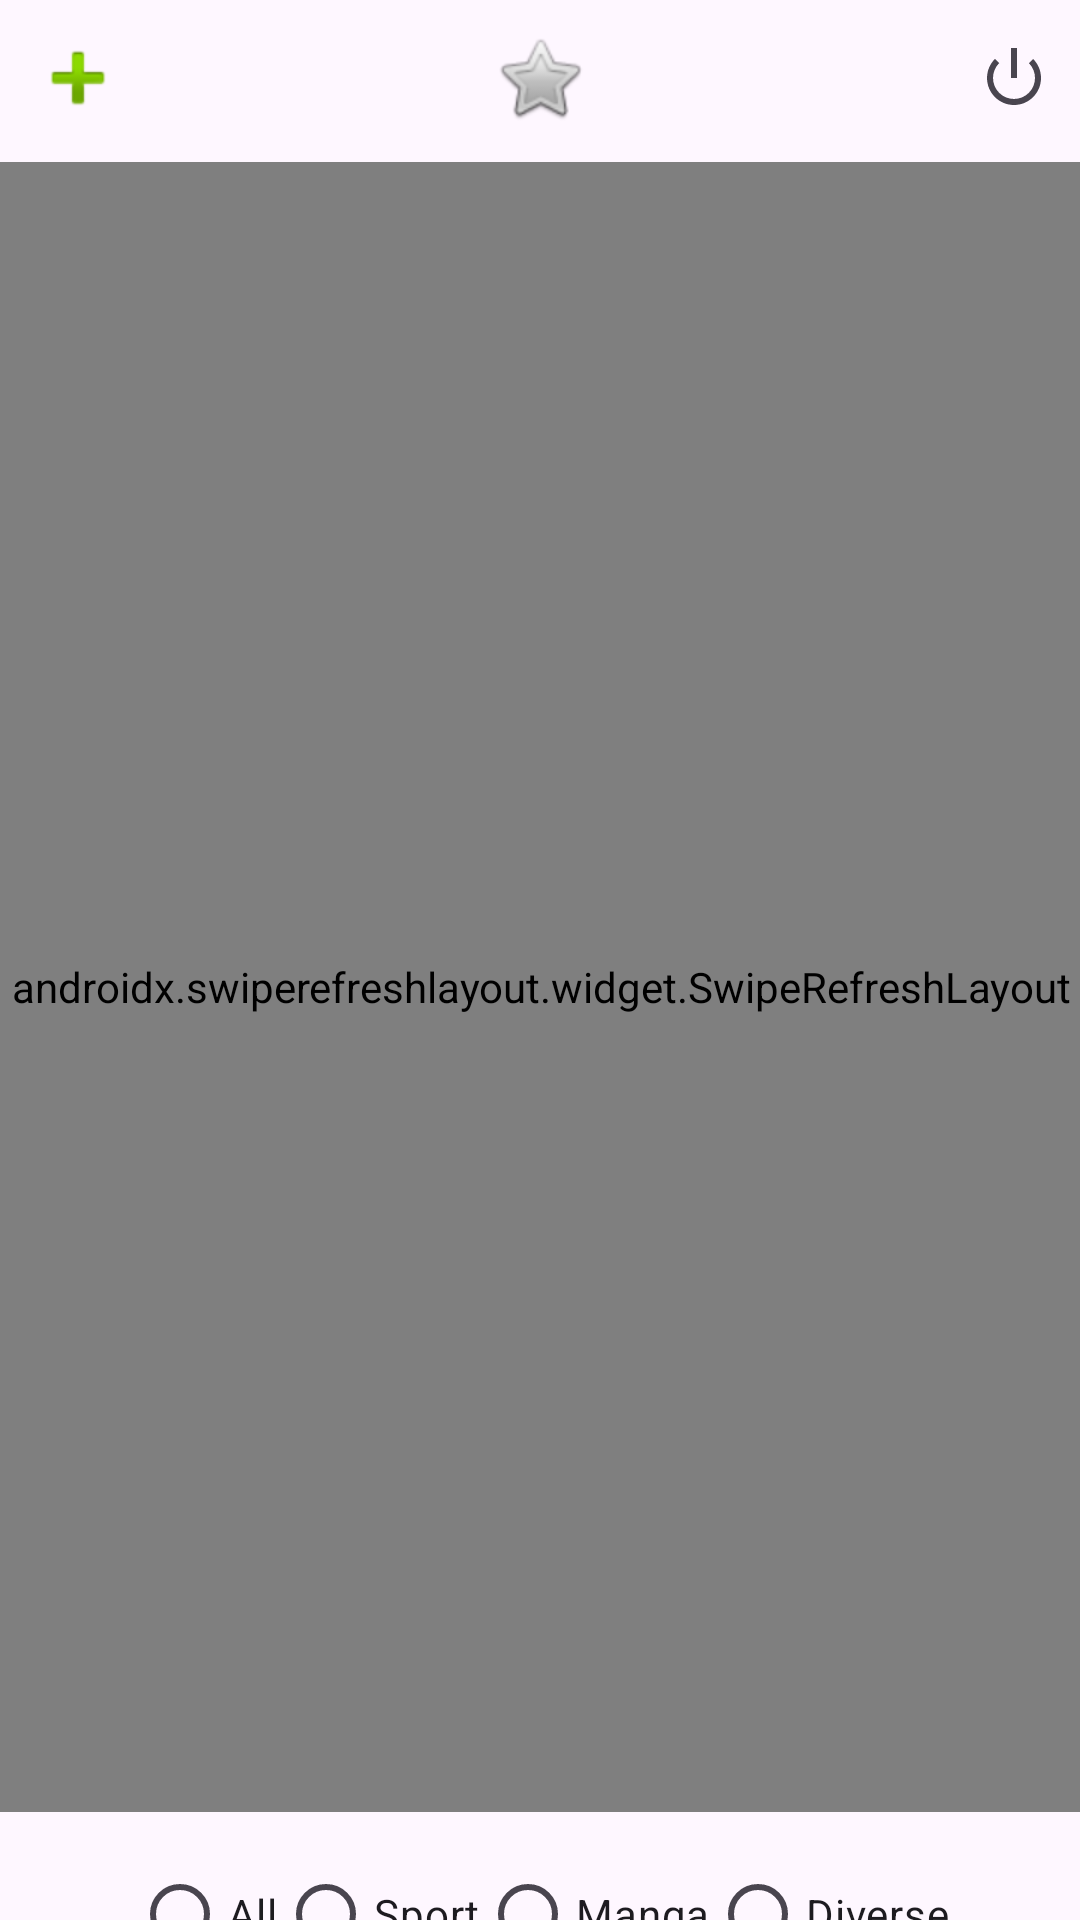

Named icons in this screenshot (1080px x 1920px) and their bounding boxes, Rect(x1, y1, x2, y2):
Add: Rect(51, 51, 105, 105)
Star: Rect(501, 40, 581, 118)
